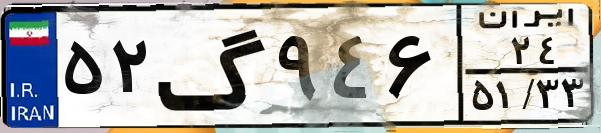1: (495, 70, 520, 125)
2: (110, 28, 156, 98), (508, 27, 537, 80)
3: (560, 70, 590, 125), (535, 70, 560, 125)
4: (330, 28, 385, 110), (537, 27, 568, 80)
5: (57, 26, 110, 100), (470, 70, 495, 125)
6: (385, 28, 445, 110)
9: (270, 28, 330, 110)
گ: (156, 12, 270, 120)
